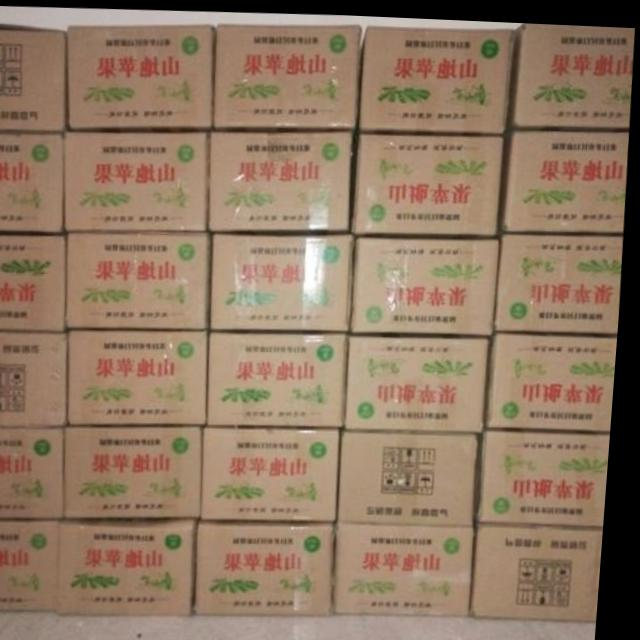box: (357, 23, 514, 128), (68, 23, 213, 129), (208, 127, 355, 229), (215, 23, 360, 126), (65, 129, 210, 230), (357, 132, 505, 230), (353, 235, 501, 329), (348, 331, 493, 425), (71, 231, 212, 327), (70, 328, 211, 423), (214, 232, 354, 327), (508, 18, 634, 123), (340, 517, 482, 610), (346, 426, 483, 521), (211, 330, 350, 423), (485, 421, 616, 519), (202, 519, 341, 610), (71, 424, 207, 517), (499, 230, 626, 329), (493, 328, 622, 425), (69, 518, 203, 611), (507, 127, 630, 228), (209, 426, 344, 518), (481, 520, 611, 613), (0, 23, 68, 131), (0, 235, 71, 330), (0, 131, 65, 234), (0, 330, 71, 424), (0, 425, 70, 519), (0, 519, 70, 610)
